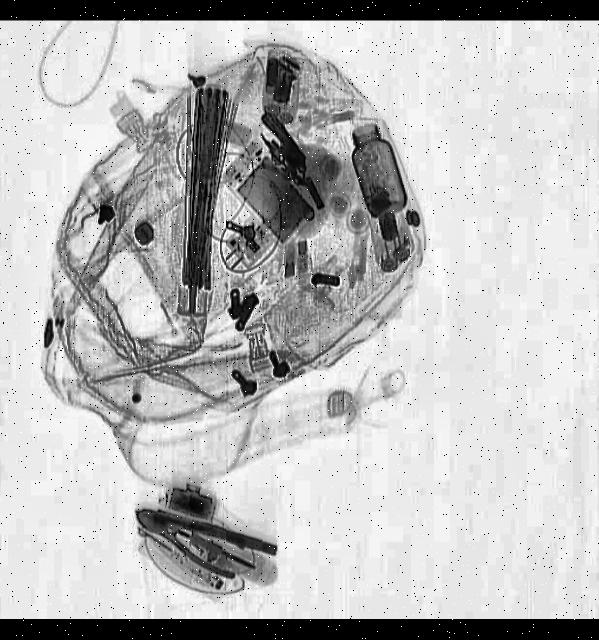Pliers: (129, 490, 252, 584)
